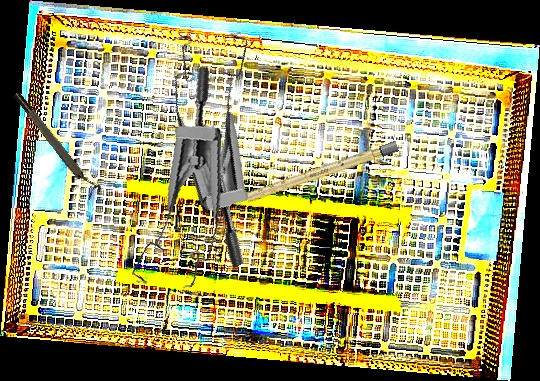Fixation Ring: (10, 86, 104, 201)
Scalpel Handle: (224, 140, 399, 211)
Speculum: (129, 10, 335, 270), (100, 63, 248, 309)
